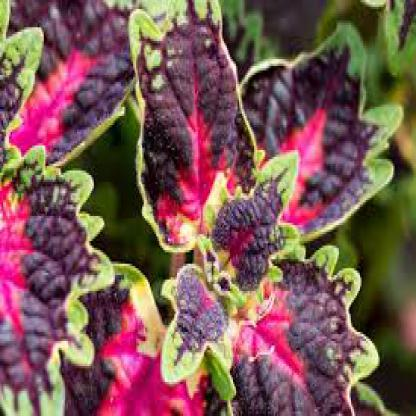Bunga Coleus: (13, 12, 405, 392)
